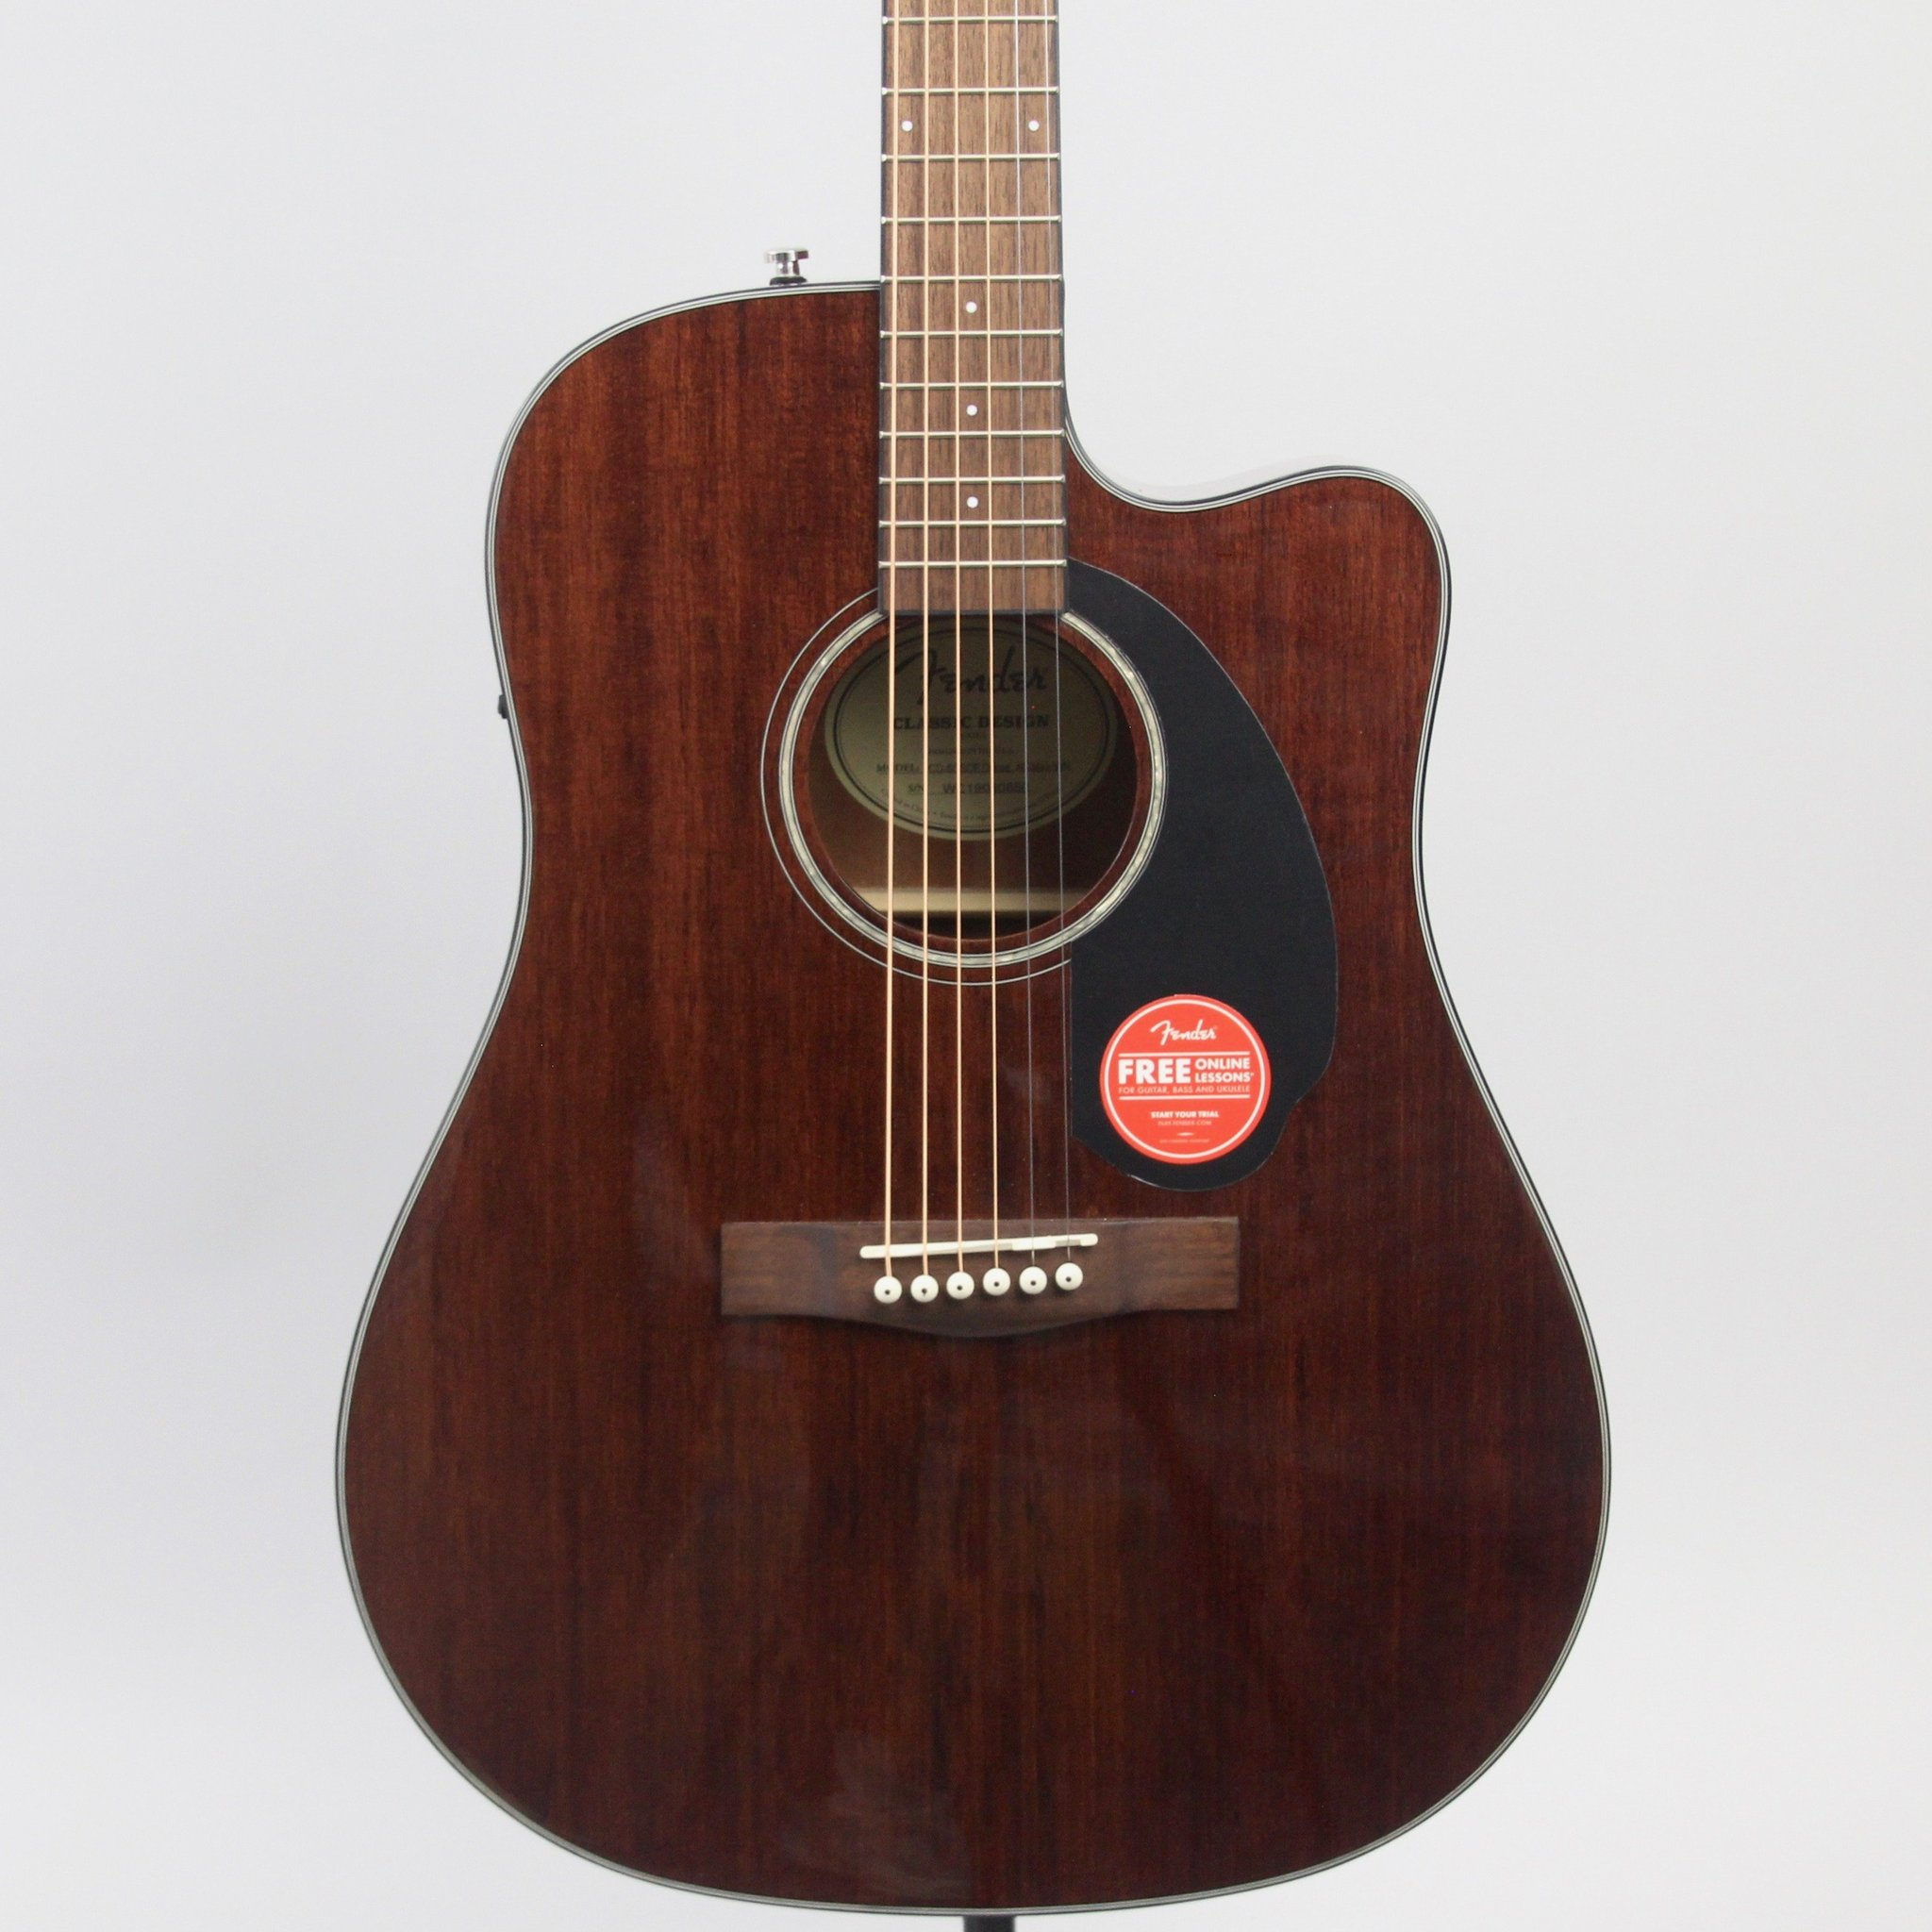guitar: (334, 2, 1598, 1905)
